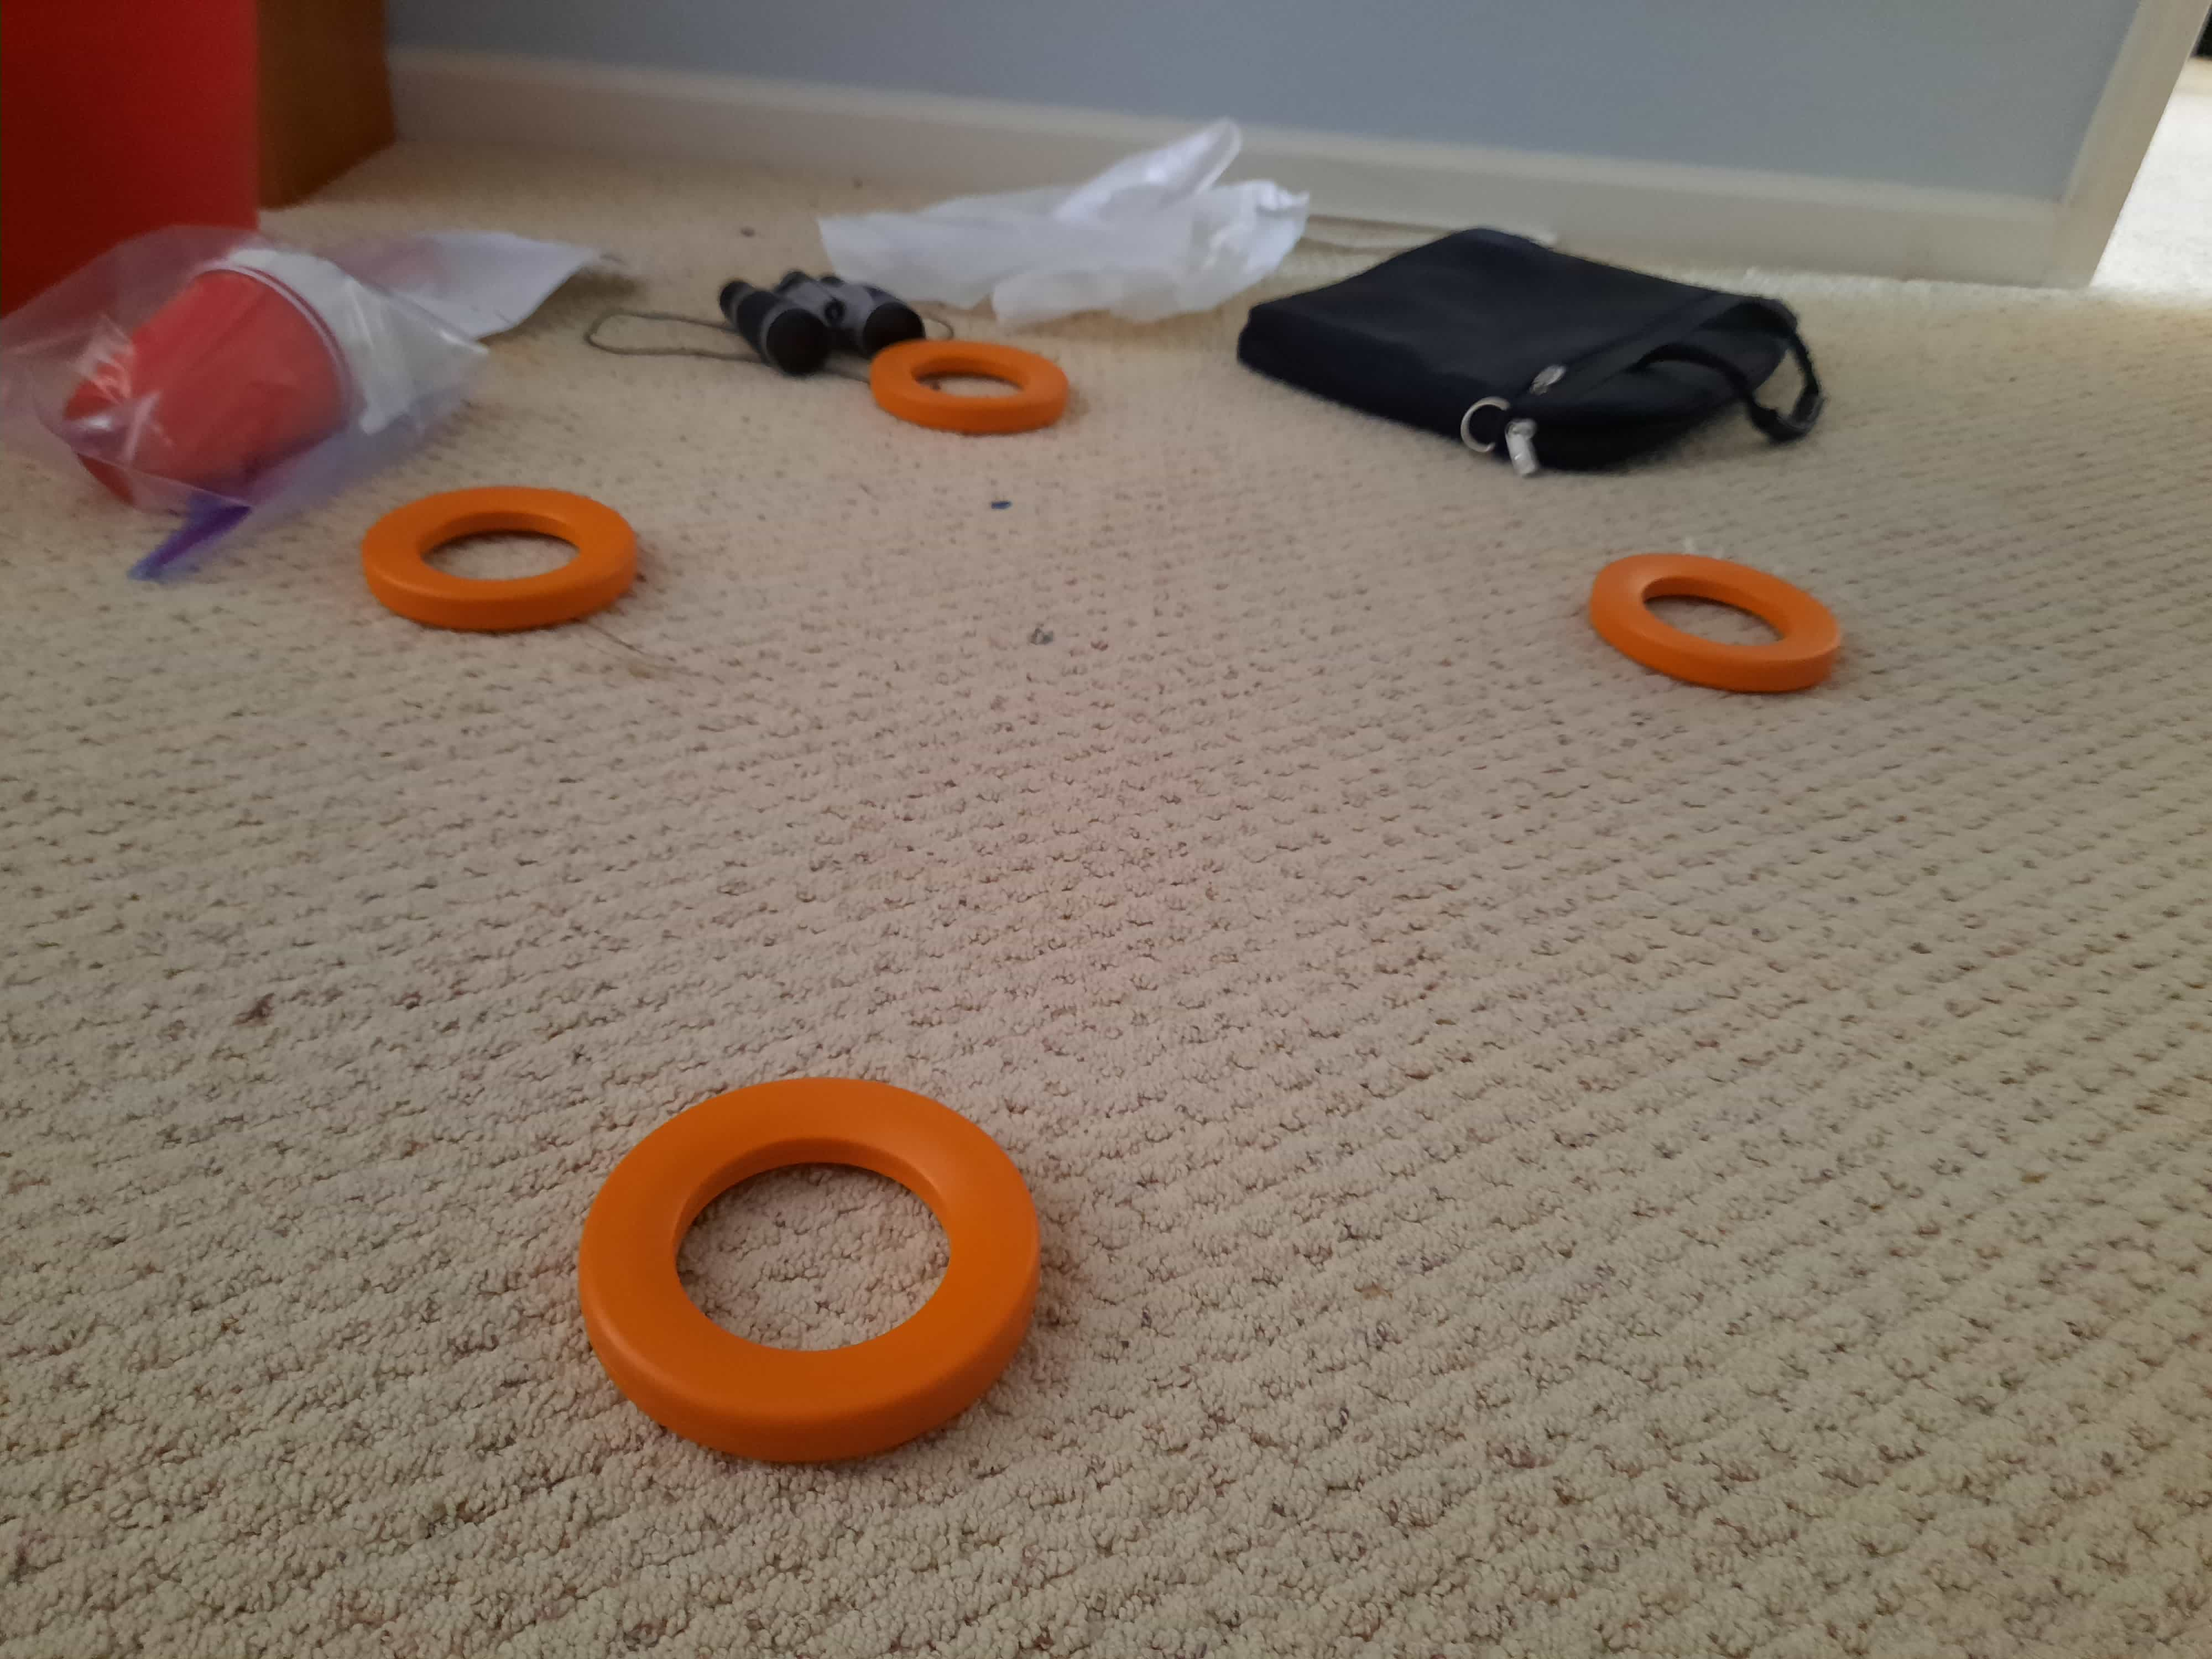OneStack: (587, 1082, 1047, 1427), (1592, 544, 1848, 697), (366, 493, 641, 631), (869, 328, 1069, 436)
